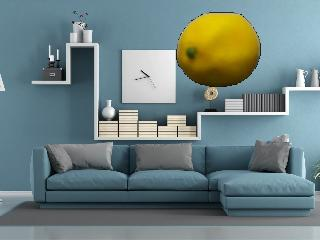lemon: (175, 9, 264, 92)
